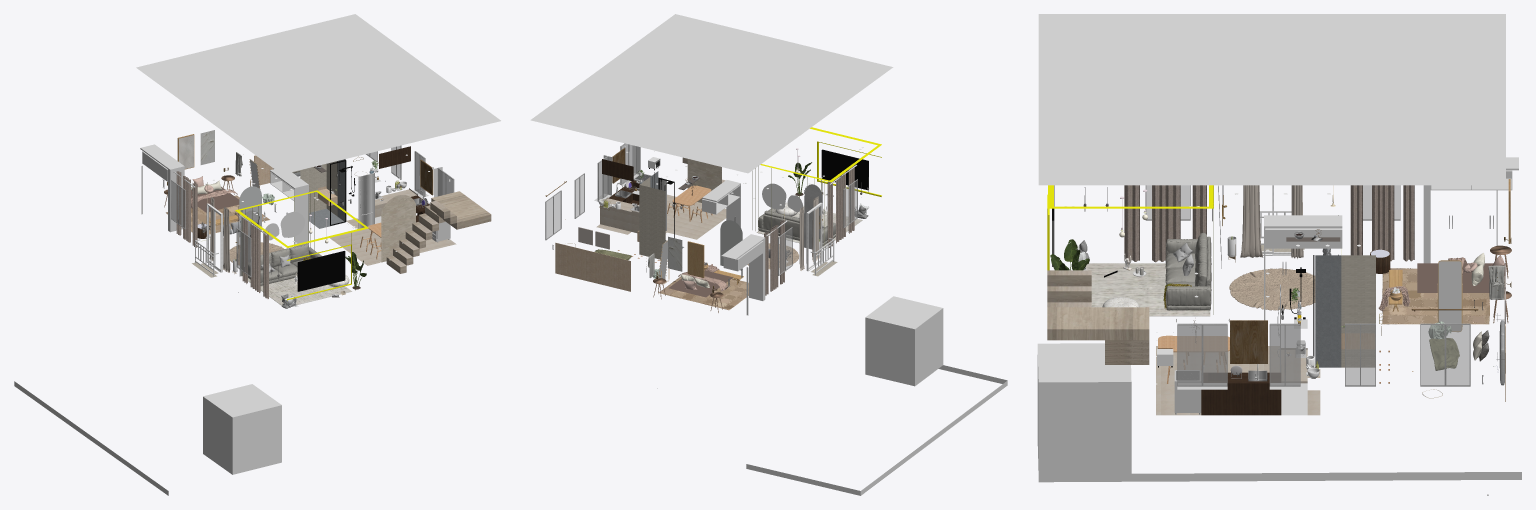
File: burgos-floor-2-0.glb
The picture shows the model from 3 angles, left to right: view 1: azimuth 30°, elevation 25°; view 2: azimuth 150°, elevation 25°; view 3: azimuth 270°, elevation 25°; orthographic projection. The views are drawn at different scales.
Visible parts, largest first — view 1: 3DGeom-1, 3DGeom-13450, 3DGeom-48.008, 3DGeom-744, 3DGeom-494, 3DGeom-47, 3DGeom-497, 3DGeom-1680, 3DGeom-81, 3DGeom-1053, 3DGeom-965, 3DGeom-623 (+10 smaller); view 2: 3DGeom-1, 3DGeom-494, 3DGeom-48.008, 3DGeom-744, 3DGeom-918, 3DGeom-1680, 3DGeom-81, 3DGeom-47, 3DGeom-131, 3DGeom-1053, 3DGeom-670, 3DGeom-497 (+8 smaller); view 3: 3DGeom-1, 3DGeom-744, 3DGeom-48.008, 3DGeom-13450, 3DGeom-494, 3DGeom-1680, 3DGeom-965, 3DGeom-670, 3DGeom-1683, 3DGeom-1053, 3DGeom-425, 3DGeom-131 (+13 smaller).
Boxes of the visible parts, x1=… form: 3DGeom-1: x1=14, y1=14, x2=500, y2=495; 3DGeom-13450: x1=386, y1=191, x2=491, y2=273; 3DGeom-48.008: x1=176, y1=171, x2=268, y2=298; 3DGeom-744: x1=171, y1=146, x2=453, y2=275; 3DGeom-494: x1=330, y1=188, x2=456, y2=265; 3DGeom-47: x1=257, y1=160, x2=355, y2=291; 3DGeom-497: x1=381, y1=195, x2=415, y2=262; 3DGeom-1680: x1=192, y1=161, x2=337, y2=277; 3DGeom-81: x1=171, y1=145, x2=454, y2=277; 3DGeom-1053: x1=248, y1=243, x2=321, y2=285; 3DGeom-965: x1=248, y1=278, x2=351, y2=305; 3DGeom-623: x1=162, y1=165, x2=424, y2=228; 3DGeom-1: x1=530, y1=14, x2=1007, y2=495; 3DGeom-494: x1=596, y1=194, x2=726, y2=239; 3DGeom-48.008: x1=764, y1=165, x2=854, y2=295; 3DGeom-744: x1=546, y1=143, x2=857, y2=274; 3DGeom-918: x1=555, y1=230, x2=639, y2=291; 3DGeom-1680: x1=639, y1=177, x2=837, y2=276; 3DGeom-81: x1=545, y1=143, x2=857, y2=275; 3DGeom-47: x1=649, y1=149, x2=868, y2=240; 3DGeom-131: x1=658, y1=276, x2=748, y2=310; 3DGeom-1053: x1=758, y1=208, x2=835, y2=246; 3DGeom-670: x1=602, y1=159, x2=640, y2=205; 3DGeom-497: x1=687, y1=159, x2=721, y2=202; 3DGeom-1: x1=1037, y1=14, x2=1521, y2=495; 3DGeom-744: x1=1135, y1=185, x2=1469, y2=385; 3DGeom-48.008: x1=1124, y1=185, x2=1414, y2=262; 3DGeom-13450: x1=1047, y1=270, x2=1149, y2=364; 3DGeom-494: x1=1156, y1=346, x2=1320, y2=415; 3DGeom-1680: x1=1241, y1=245, x2=1375, y2=367; 3DGeom-965: x1=1086, y1=263, x2=1210, y2=316; 3DGeom-670: x1=1201, y1=372, x2=1281, y2=415; 3DGeom-1683: x1=1315, y1=255, x2=1341, y2=367; 3DGeom-1053: x1=1165, y1=232, x2=1211, y2=310; 3DGeom-425: x1=1229, y1=268, x2=1315, y2=310; 3DGeom-131: x1=1382, y1=268, x2=1489, y2=324.
Size of the model in its own units: 14.06 by 11.68 by 10.98.
150 materials, 96 textured.
